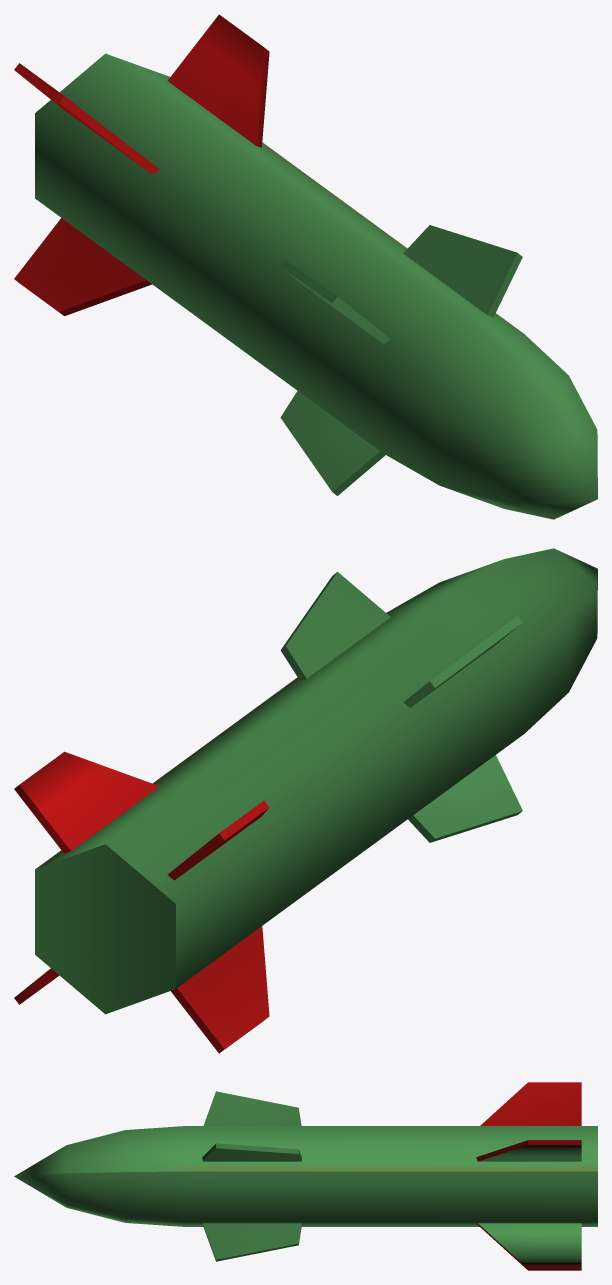
3 views of the same model, one above another, from view 1: azimuth 30°, elevation 25°; view 2: azimuth 150°, elevation 25°; view 3: azimuth 270°, elevation 25° (orthographic). The views are drawn at different scales.
Parts seen in each view (by area): view 1: russia_laser_tank_rocket; view 2: russia_laser_tank_rocket; view 3: russia_laser_tank_rocket.
Part boxes in pixels (x1,y1,x2,y2): russia_laser_tank_rocket: (14, 14, 597, 519); russia_laser_tank_rocket: (14, 548, 597, 1053); russia_laser_tank_rocket: (14, 1082, 597, 1270).
Bounding box in the file's own units: 395 × 395 × 1601.
